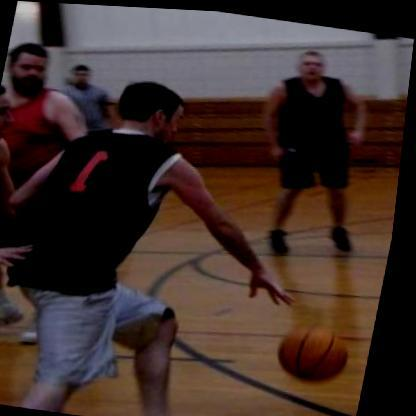basketball: (272, 310, 366, 387)
